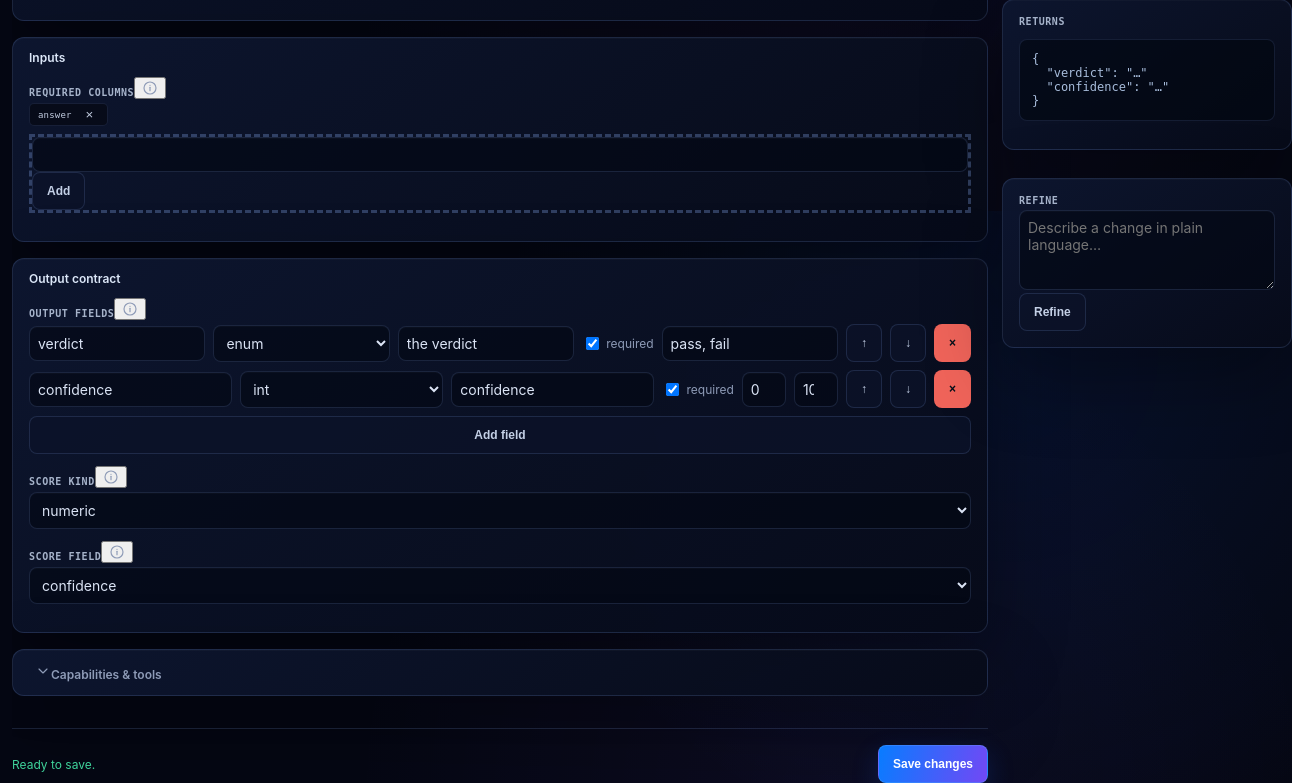
Test: VersionEditor: sectioned layout › reveals the capability and tool fields and flips aria-expanded when the disclosure is clicked
(page scrolled)
Step 1. Click the button "Capabilities & tools" → (98, 672), box left=29, top=662, right=168, bottom=683
(page scrolled)
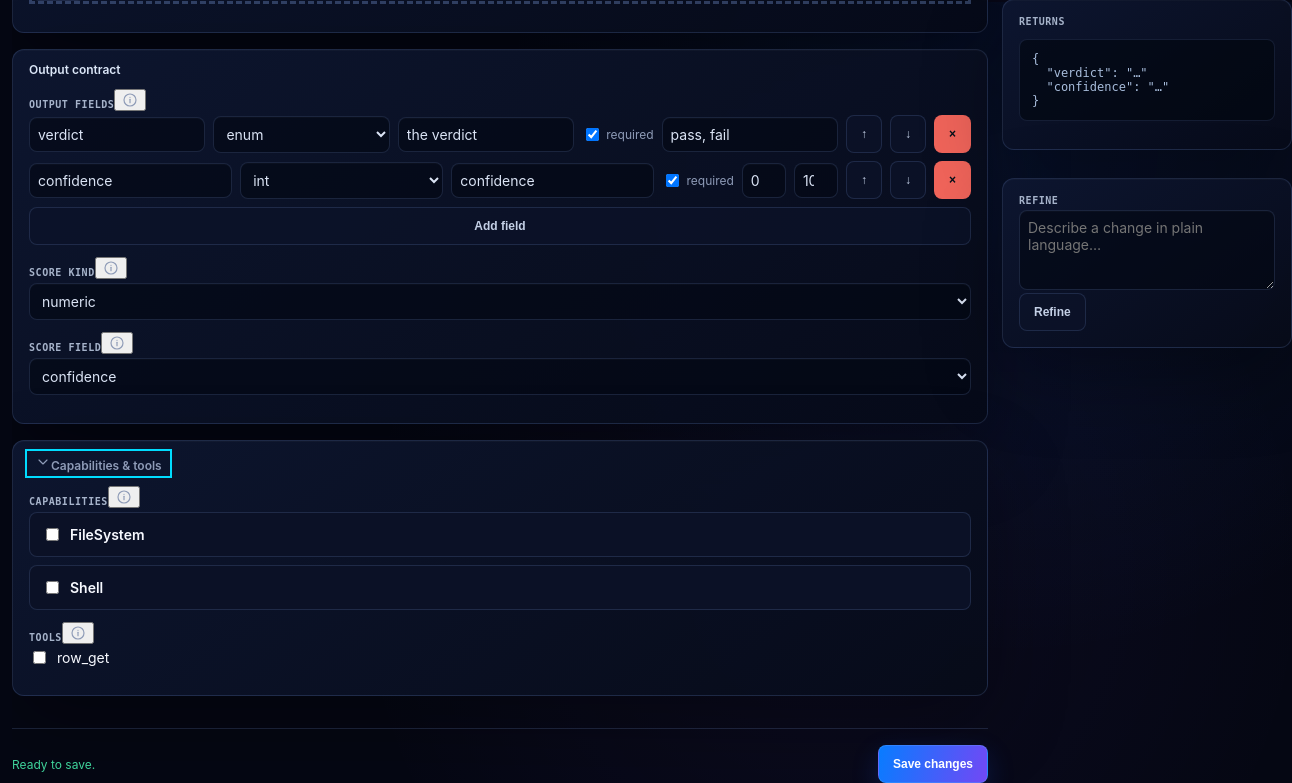
Expected: the button "Capabilities & tools" is expanded, left=29, top=453, right=168, bottom=474
Expected: the checkbox labelled "FileSystem" is shown, left=46, top=528, right=59, bottom=541
Expected: the checkbox labelled "Shell" is shown, left=46, top=581, right=59, bottom=594
